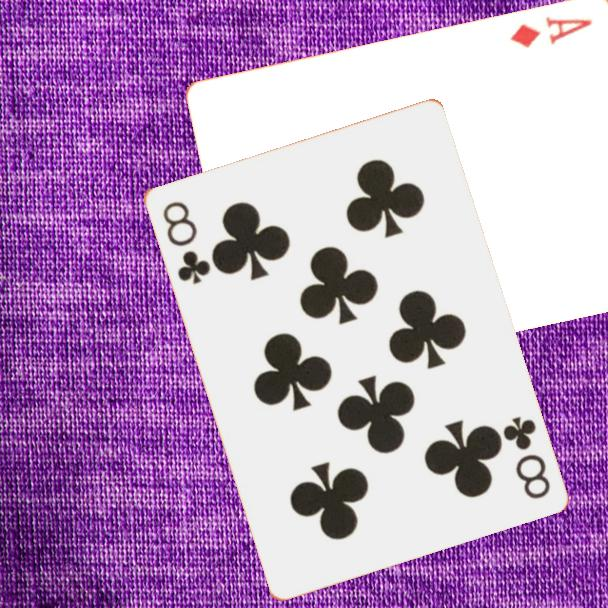c08: (158, 197, 213, 287), (498, 413, 553, 502)
d01: (506, 14, 595, 51)
